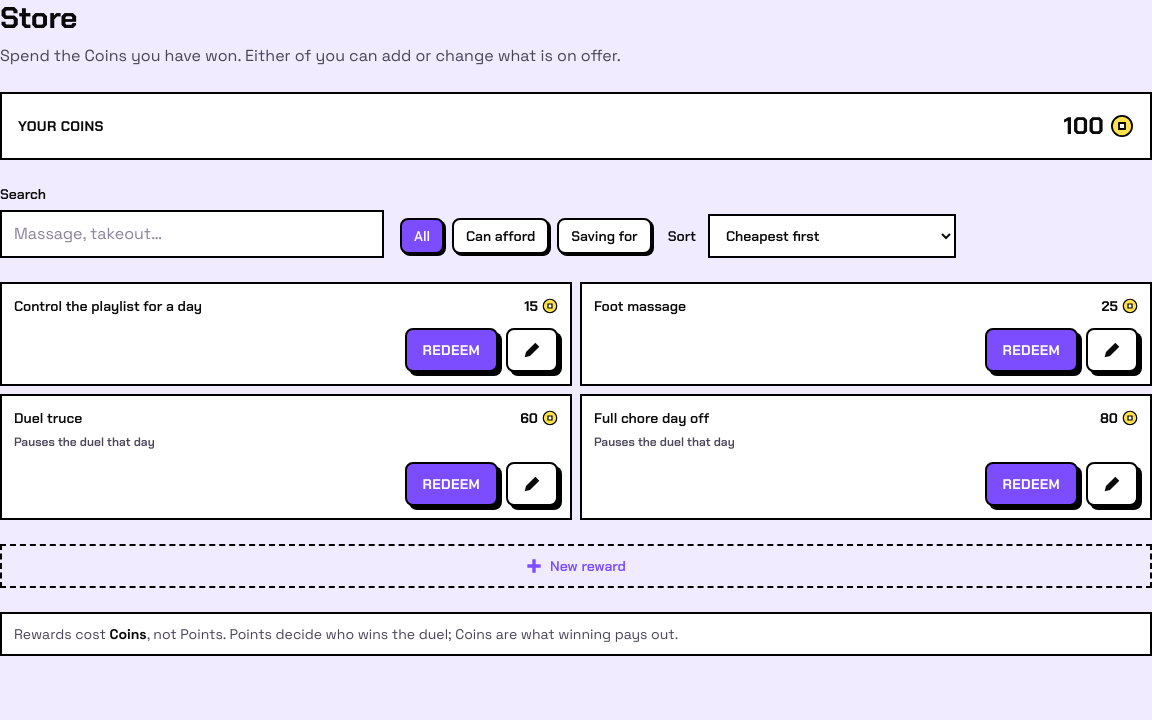
Test: the pausing disclosure › spells out the consequence at the point of redemption
Expected: the heading "Foot massage" is shown, [594, 296, 686, 316]
Click the button "Redeem" below "60" at (451, 484), box [405, 462, 498, 506]
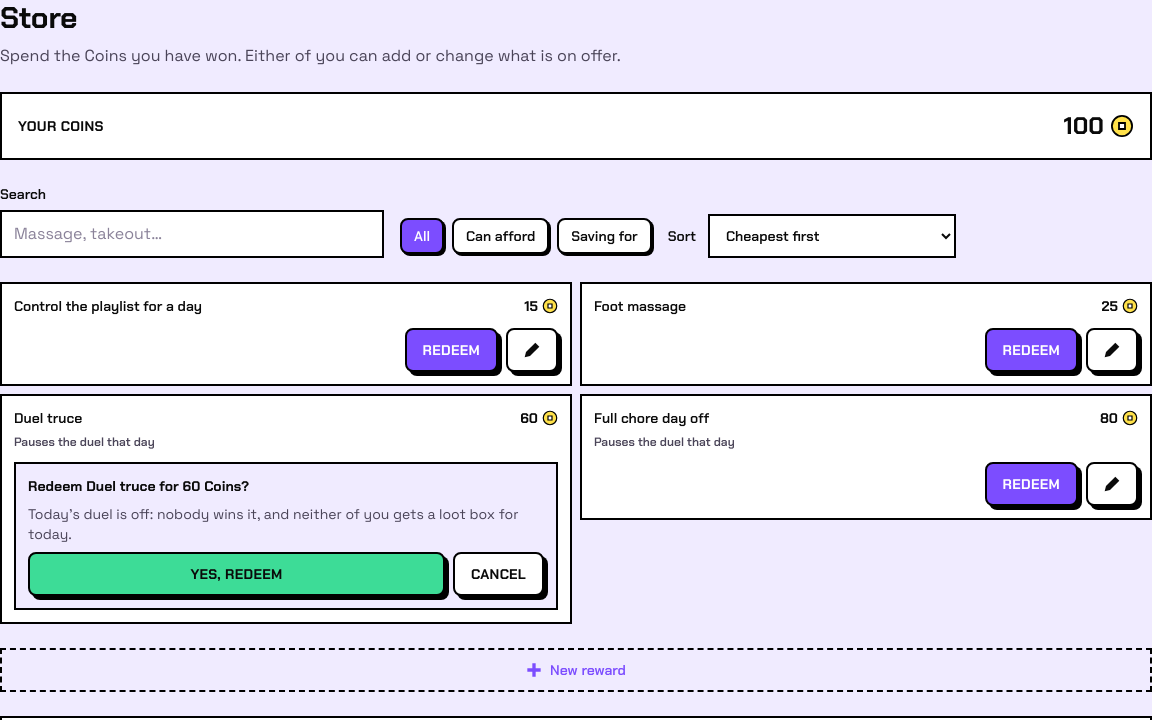
Now the text "nobody wins it, and neither of you gets a loot box" is shown, box [28, 505, 518, 543]
